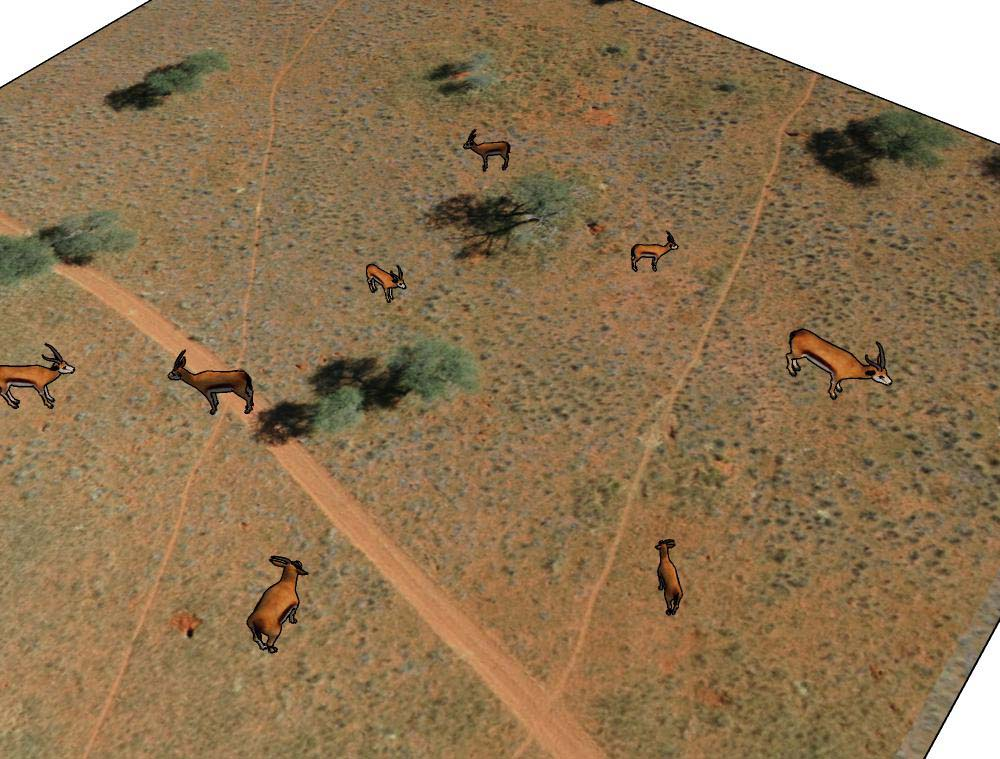springbok: (786, 321, 894, 401), (244, 552, 309, 657), (165, 347, 253, 416), (1, 344, 76, 417), (650, 535, 689, 625), (620, 229, 683, 277), (463, 127, 513, 173), (363, 257, 407, 305)
